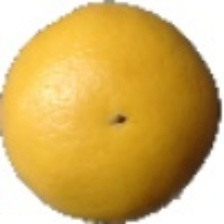grapes: (50, 24, 200, 190)
